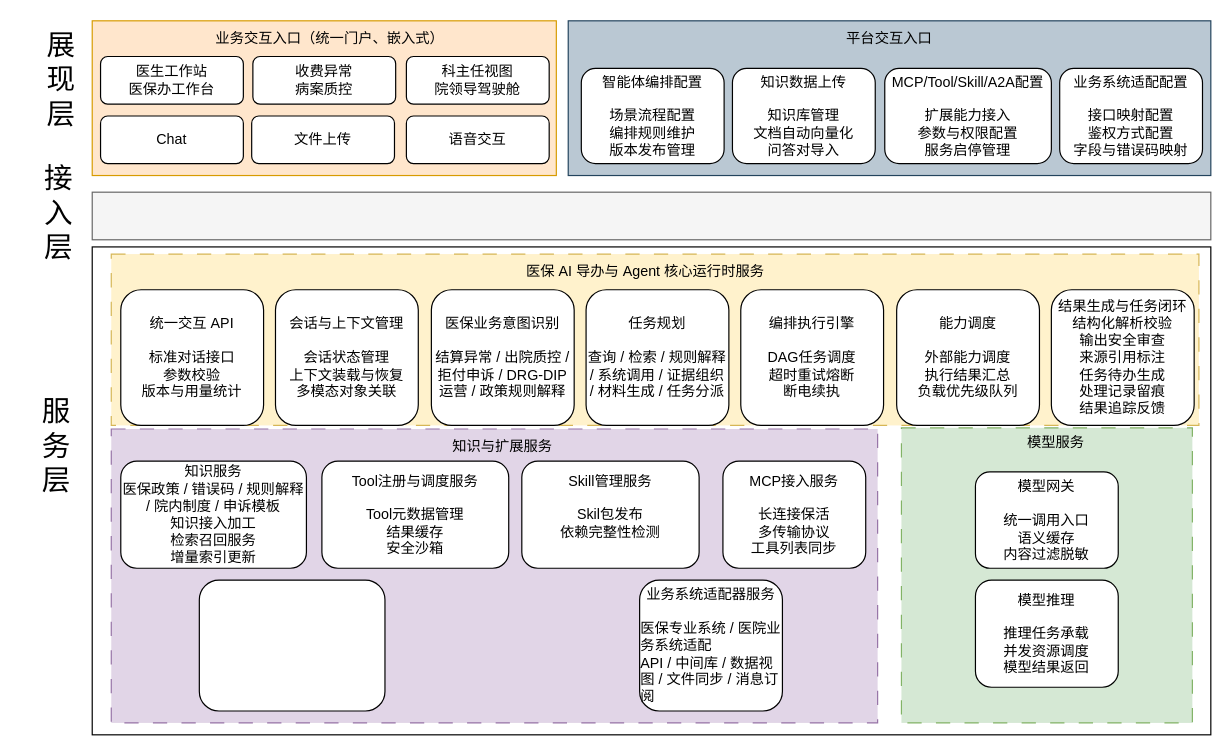
Some shapes in this 1232 by 756 pixel diagram are drawn without their labels. Each missing label, with the centre of its shape:
智能体协同（A2A）服务 Agent注册发现 任务委托协议 信任与鉴权: the point at 291,645
统一接入网关 API 网关 / SSO / 认证鉴权 / 角色权限 / 租户隔离 / 限流熔断 / Token 校验 / 日志监控 / 风控审计: the point at 651,215
